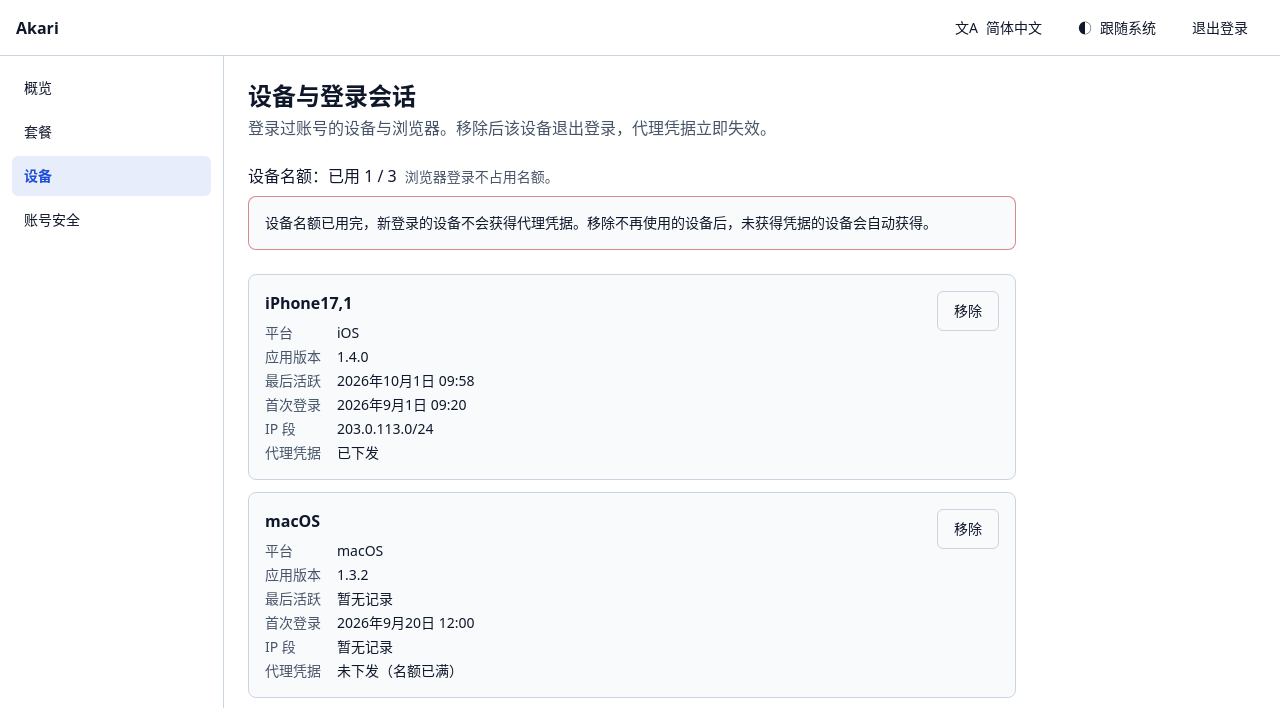
移除设备 › 移除失败时显示错误与 request_id；设备已不存在时只刷新列表
Click the button with aria-label "移除 iPhone17,1".
click(968, 311)  # box [937,291,999,331]
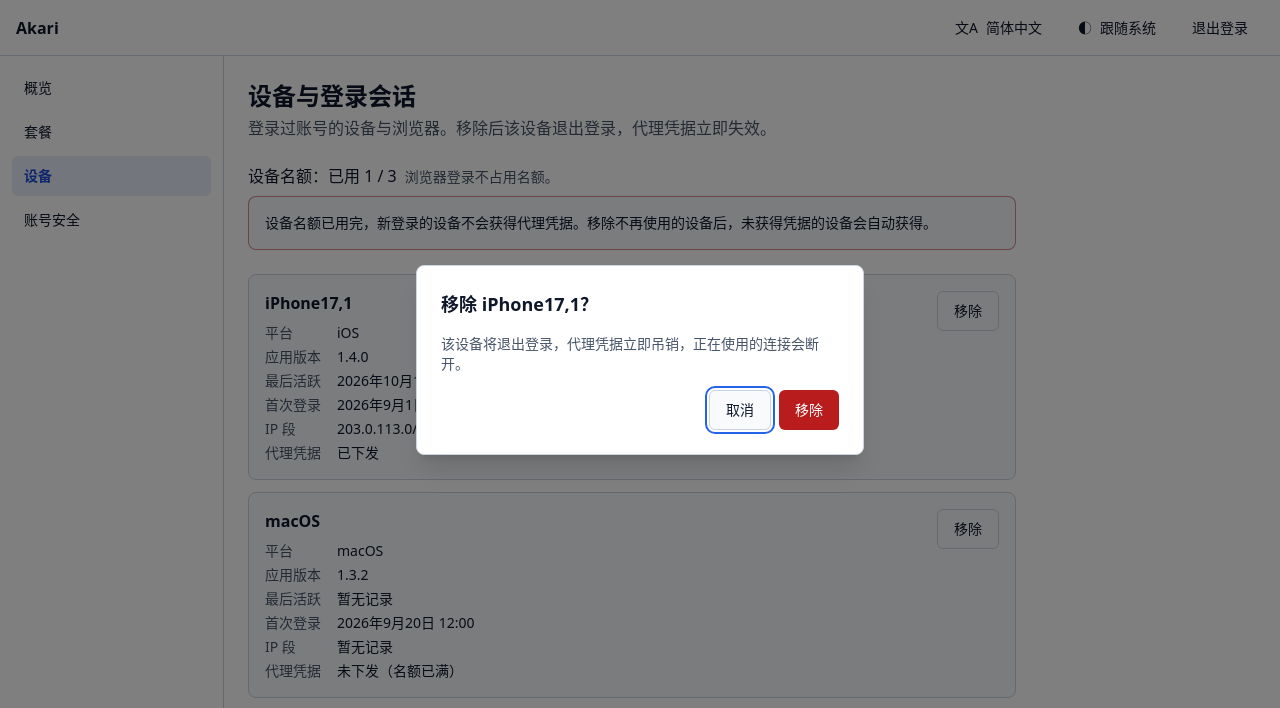
Click the button "移除".
click(809, 410)  # box [779,390,839,430]
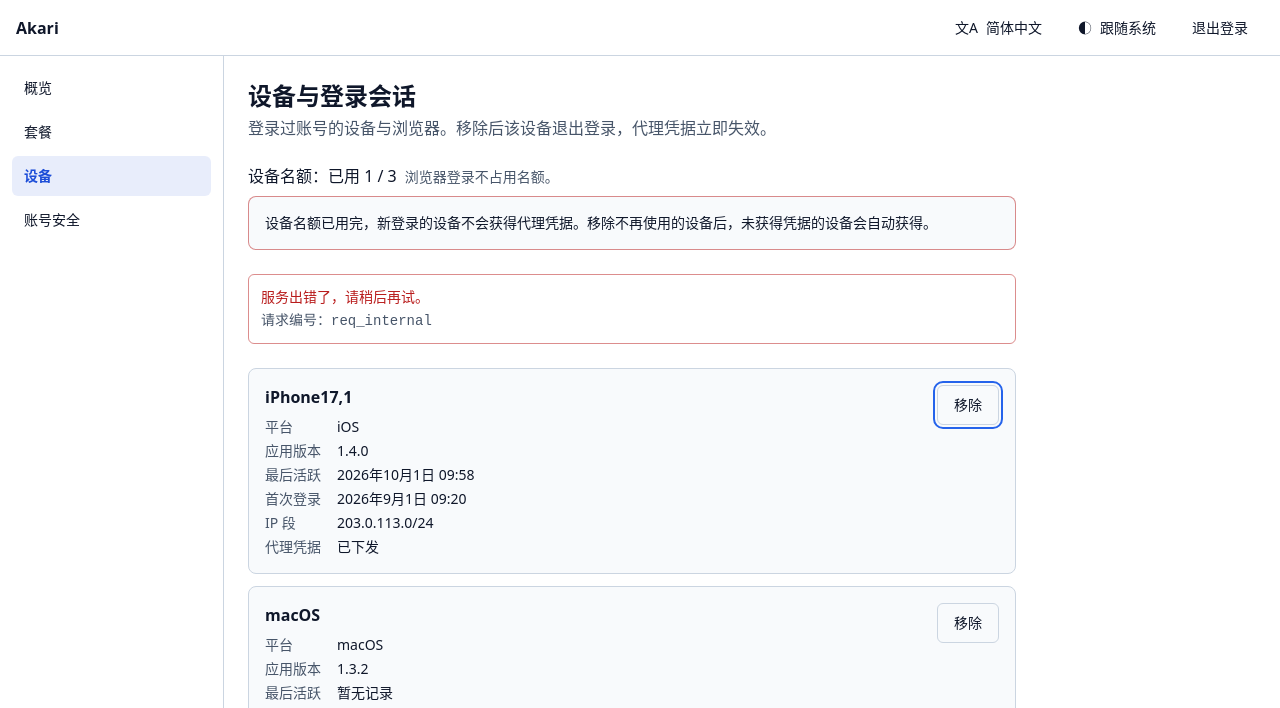
Expected: the element "iPhone17,1" is shown, [248,368,1016,574]
Expected: the message "服务出错了，请稍后再试。 请求编号：req_internal" is shown, [248,274,1016,344]
Click the button with aria-label "移除 macOS".
click(968, 623)  # box [937,603,999,643]
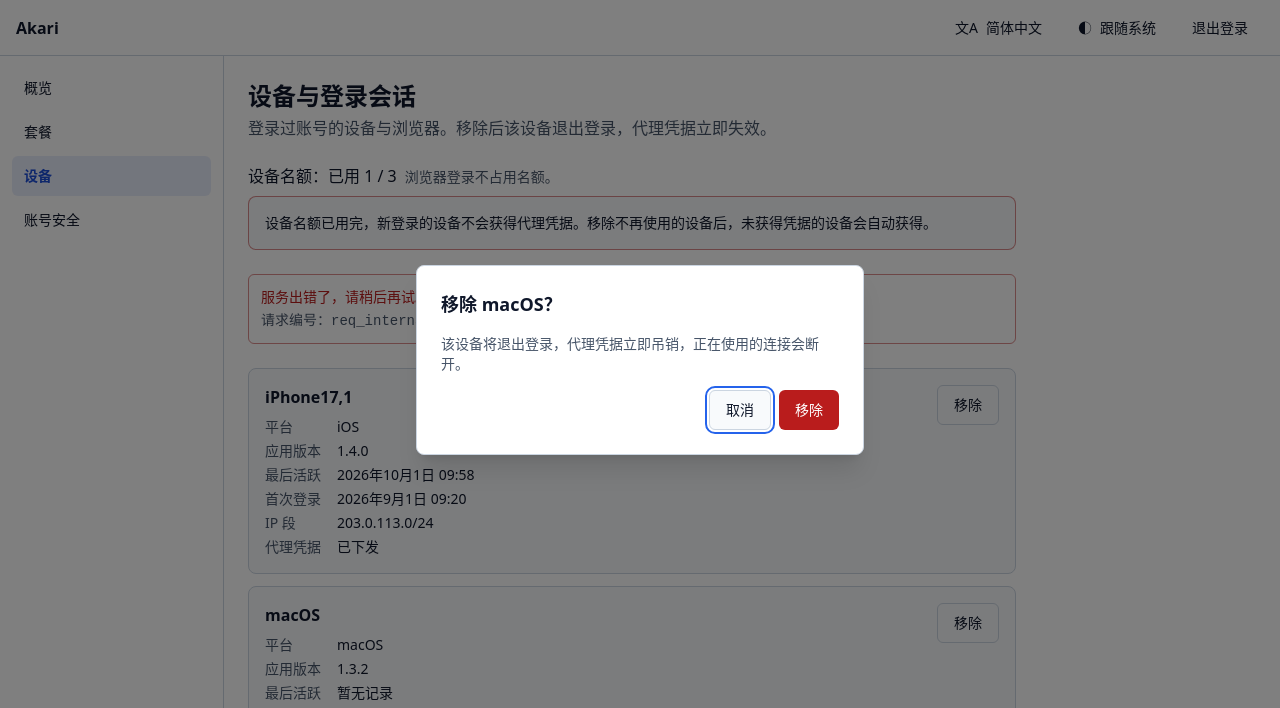
Click the button "移除".
click(809, 410)  # box [779,390,839,430]
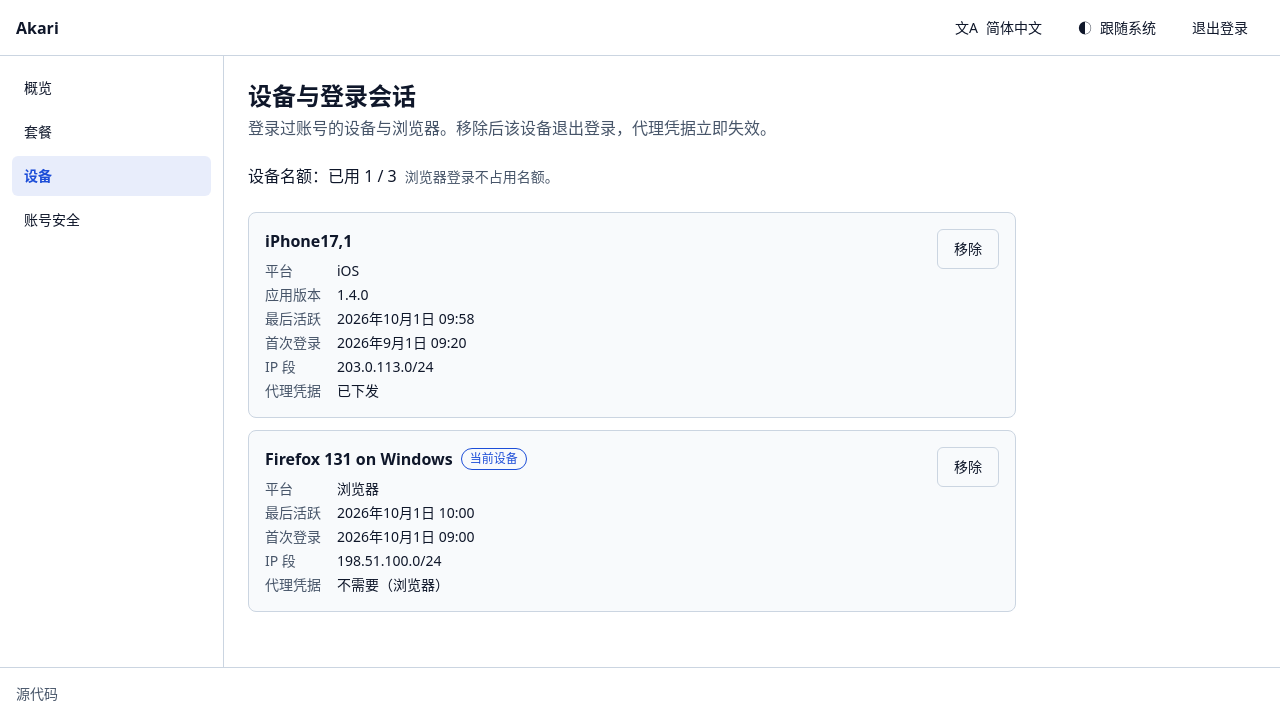
Expected: the heading "macOS" is gone
Expected: the message "设备名额已用完，新登录的设备不会获得代理凭据。移除不再使用的设备后，未获得凭据的设备会自动获得。" is gone
